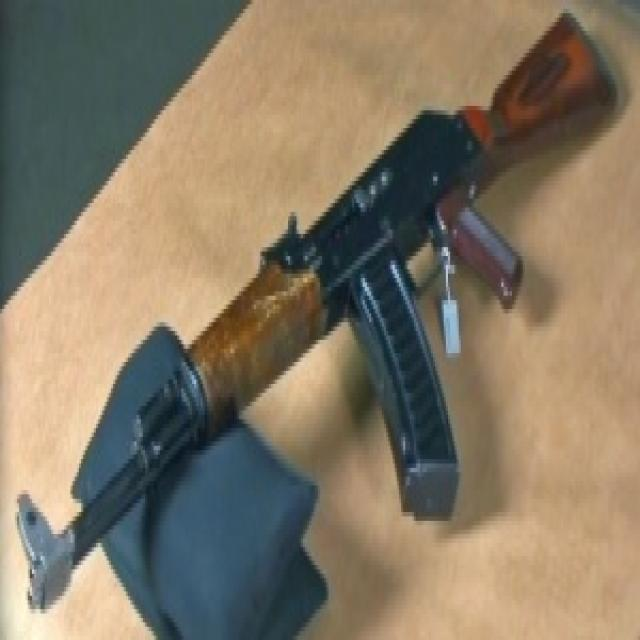rifle: (9, 4, 621, 622)
